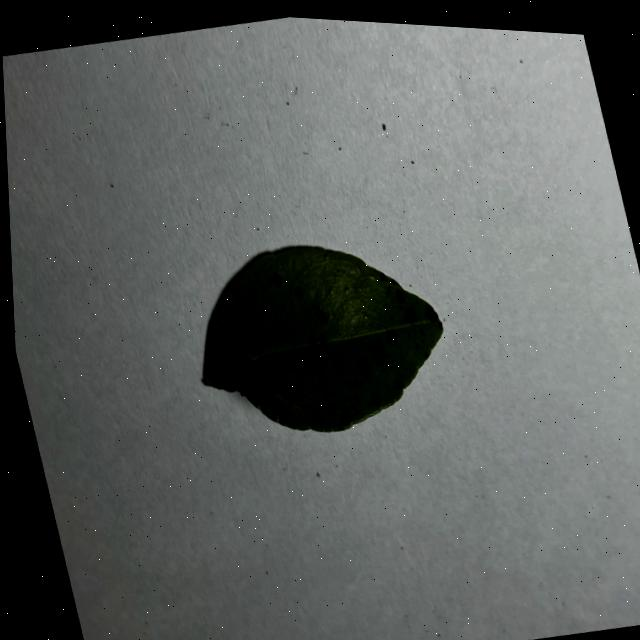sooty_mold: (204, 248, 443, 432)
